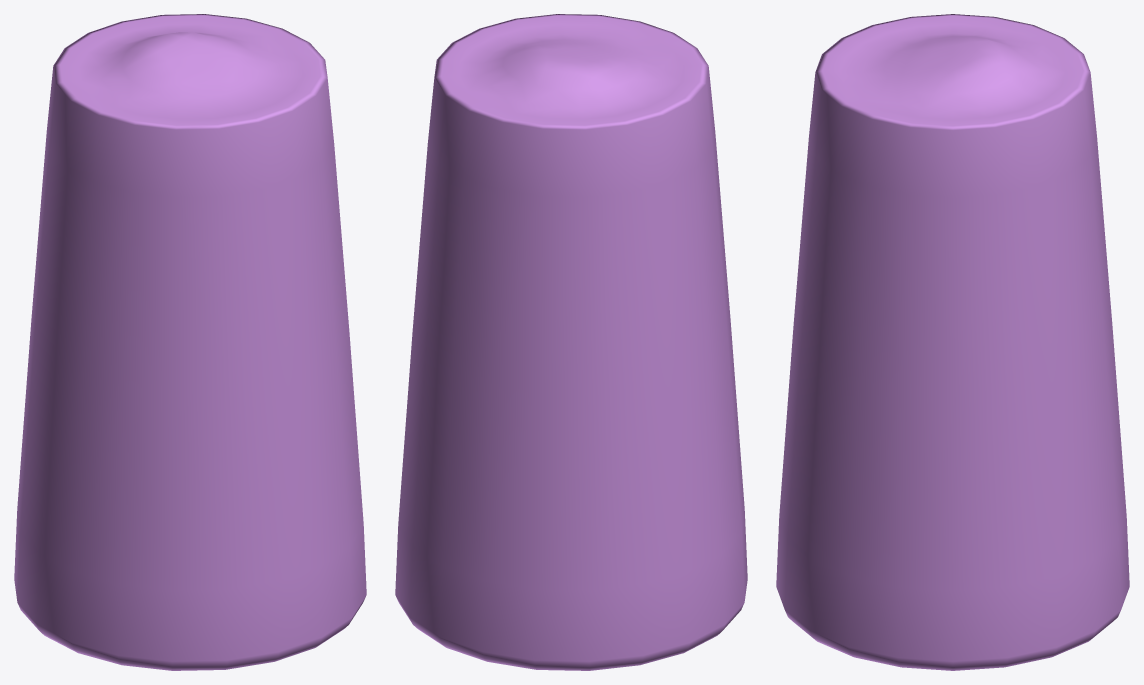
Rendered from uploads_files_1923420_Salt+Shakers_Salt5.FBX.
The picture shows the model from 3 angles, left to right: view 1: azimuth 30°, elevation 25°; view 2: azimuth 150°, elevation 25°; view 3: azimuth 270°, elevation 25°; orthographic projection.
Parts seen in each view (by area): view 1: uploads_files_1923420_Salt+Shakers_Salt5; view 2: uploads_files_1923420_Salt+Shakers_Salt5; view 3: uploads_files_1923420_Salt+Shakers_Salt5.
Boxes of the visible parts, x1,y1,x2,y2 form: uploads_files_1923420_Salt+Shakers_Salt5: (14, 14, 366, 670); uploads_files_1923420_Salt+Shakers_Salt5: (395, 14, 747, 670); uploads_files_1923420_Salt+Shakers_Salt5: (776, 14, 1129, 670).
Size of what is drawn, in the model's own units: 1.24 by 1.24 by 2.14.
